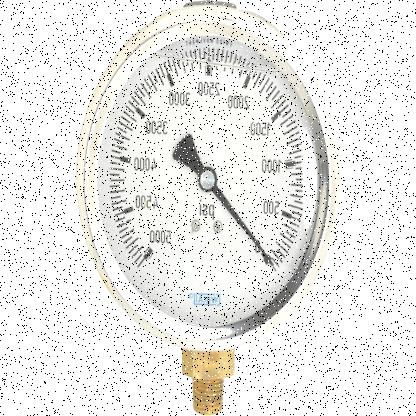needle: (211, 184, 268, 258)
